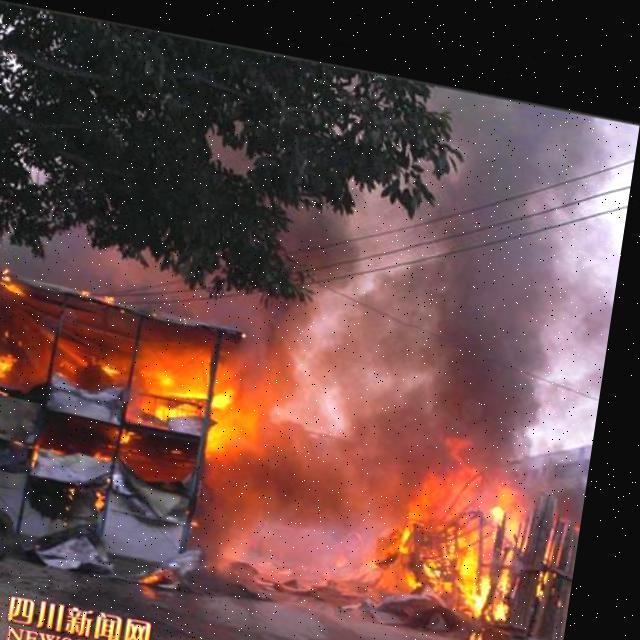Fire: (0, 262, 269, 454), (375, 416, 557, 630)
